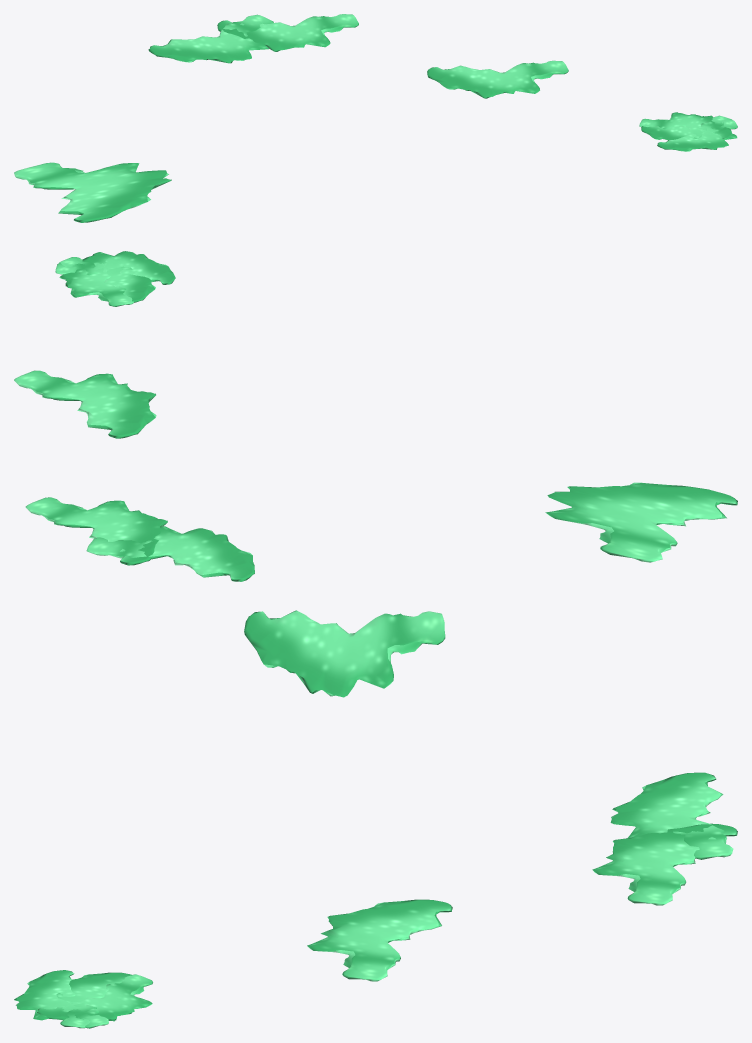
File: LV6Acid.fbx
3 views of the same model, one above another, from view 1: azimuth 30°, elevation 25°; view 2: azimuth 150°, elevation 25°; view 3: azimuth 270°, elevation 25° (orthographic). The views are drawn at different scales.
Parts seen in each view (by area): view 1: RockWalkway_34; view 2: RockWalkway_34; view 3: RockWalkway_34.
Boxes of the visible parts, x1,y1,x2,y2 form: RockWalkway_34: (14,14,737,222); RockWalkway_34: (14,251,737,581); RockWalkway_34: (14,610,737,1028).
Size of the model in its own units: 533 by 3.57 by 391.
